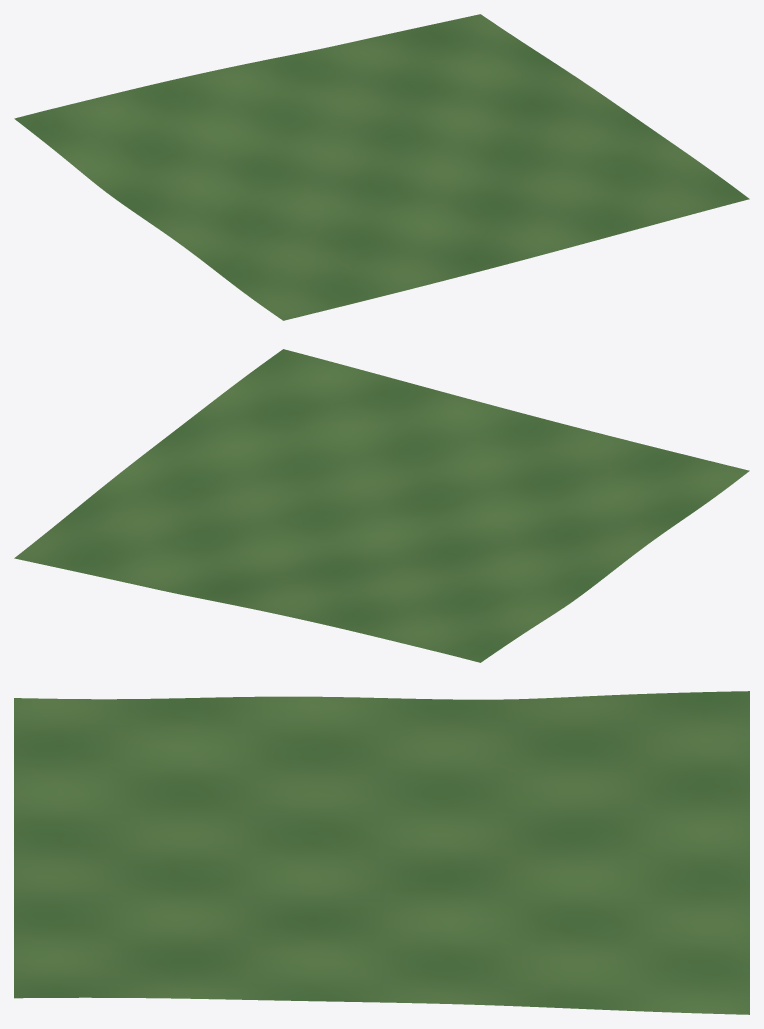
Rendered from chunk_3_9.glb.
3 renders of one model, top to bottom at view 1: azimuth 30°, elevation 25°; view 2: azimuth 150°, elevation 25°; view 3: azimuth 270°, elevation 25°, orthographic. The views are drawn at different scales.
Size of the model in its own units: 512 by 13.09 by 512.
